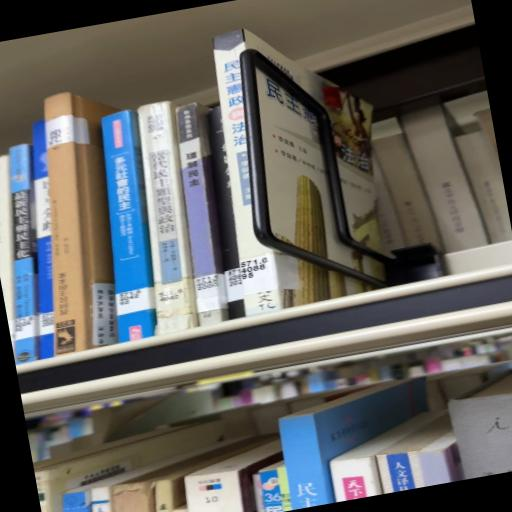book: (138, 102, 199, 335), (102, 110, 157, 343), (176, 103, 229, 326), (10, 144, 40, 365), (33, 120, 55, 360)
reverse: (44, 93, 120, 357)
